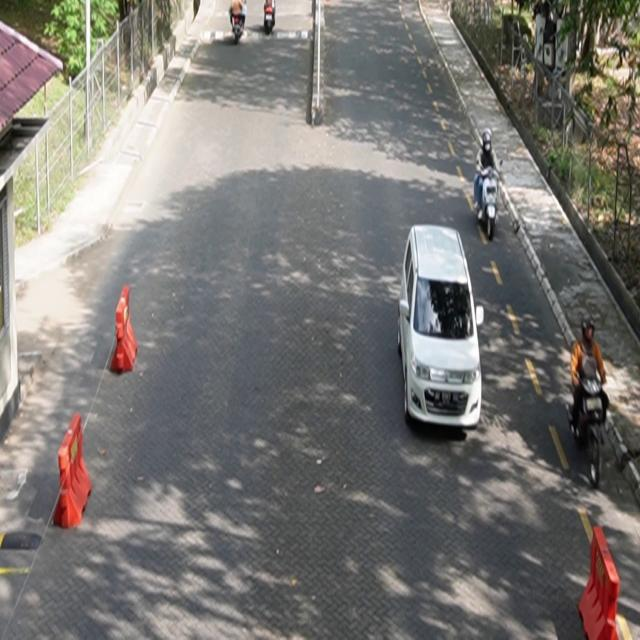car: (398, 224, 485, 431)
